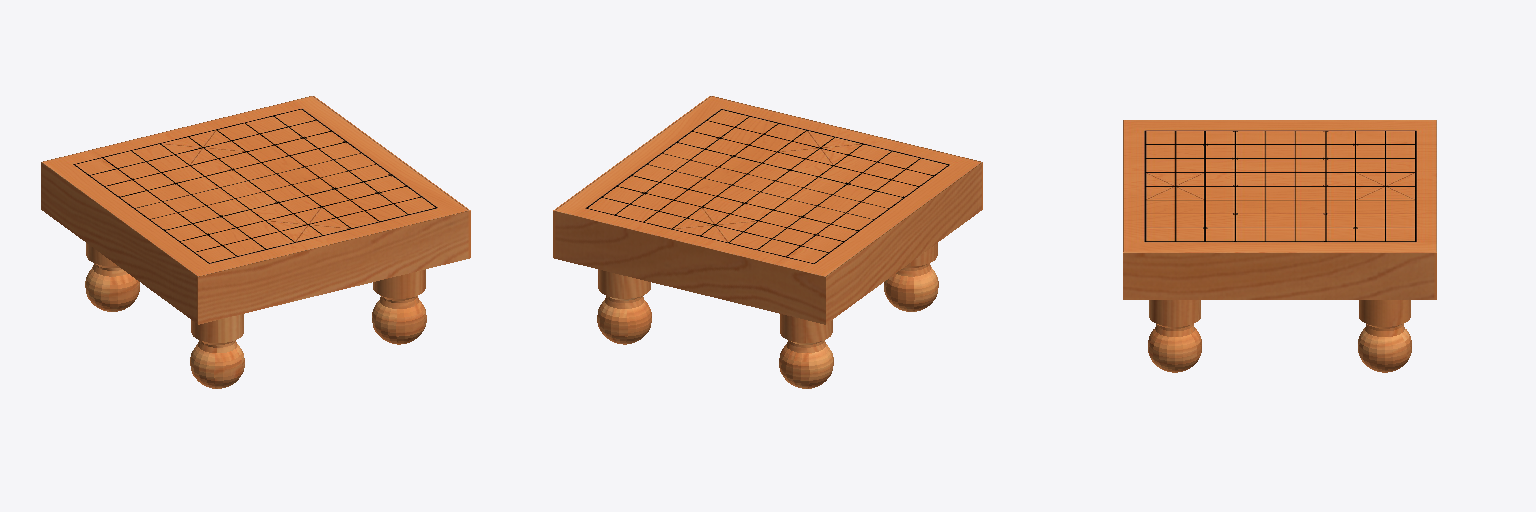
3 renders of one model, left to right at view 1: azimuth 30°, elevation 25°; view 2: azimuth 150°, elevation 25°; view 3: azimuth 270°, elevation 25°, orthographic.
Visible parts, largest first — view 1: pan:polySurface1; view 2: pan:polySurface1; view 3: pan:polySurface1.
Boxes of the visible parts, x1=… form: pan:polySurface1: x1=41, y1=96, x2=470, y2=388; pan:polySurface1: x1=553, y1=96, x2=982, y2=388; pan:polySurface1: x1=1123, y1=120, x2=1436, y2=372.
Size of the model in its own units: 1.2 by 0.5856 by 1.2.
Materials: 1 (1 with a texture image).